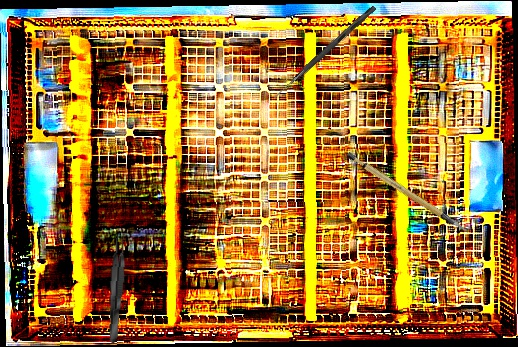Hook Surgical: (272, 3, 377, 102)
Scalpel Handle: (344, 137, 469, 251)
Tissue Forceps: (105, 232, 128, 345)
